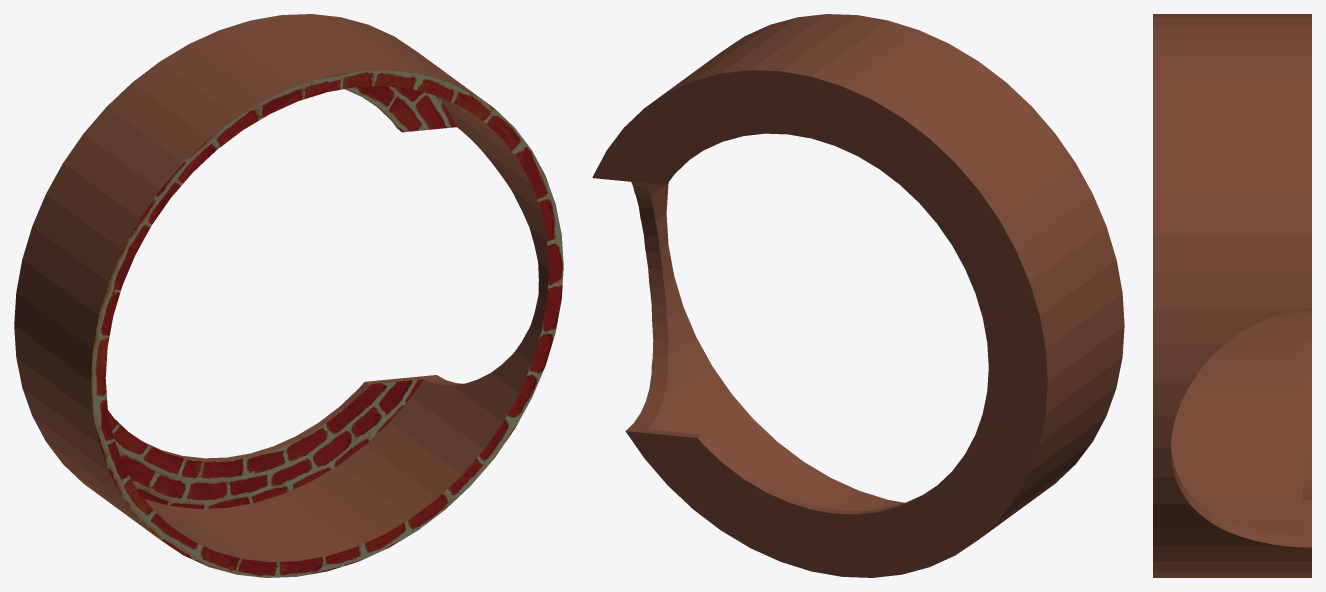
Rendered from pool_042.obj.
The picture shows the model from 3 angles, left to right: view 1: azimuth 30°, elevation 25°; view 2: azimuth 150°, elevation 25°; view 3: azimuth 270°, elevation 25°; orthographic projection. The views are drawn at different scales.
Bounding box in the file's own units: 32 × 32 × 9.
1 material, 1 textured.
